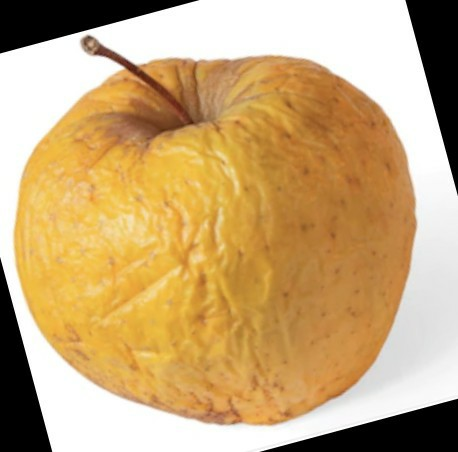rotten_apple: (15, 58, 417, 426)
